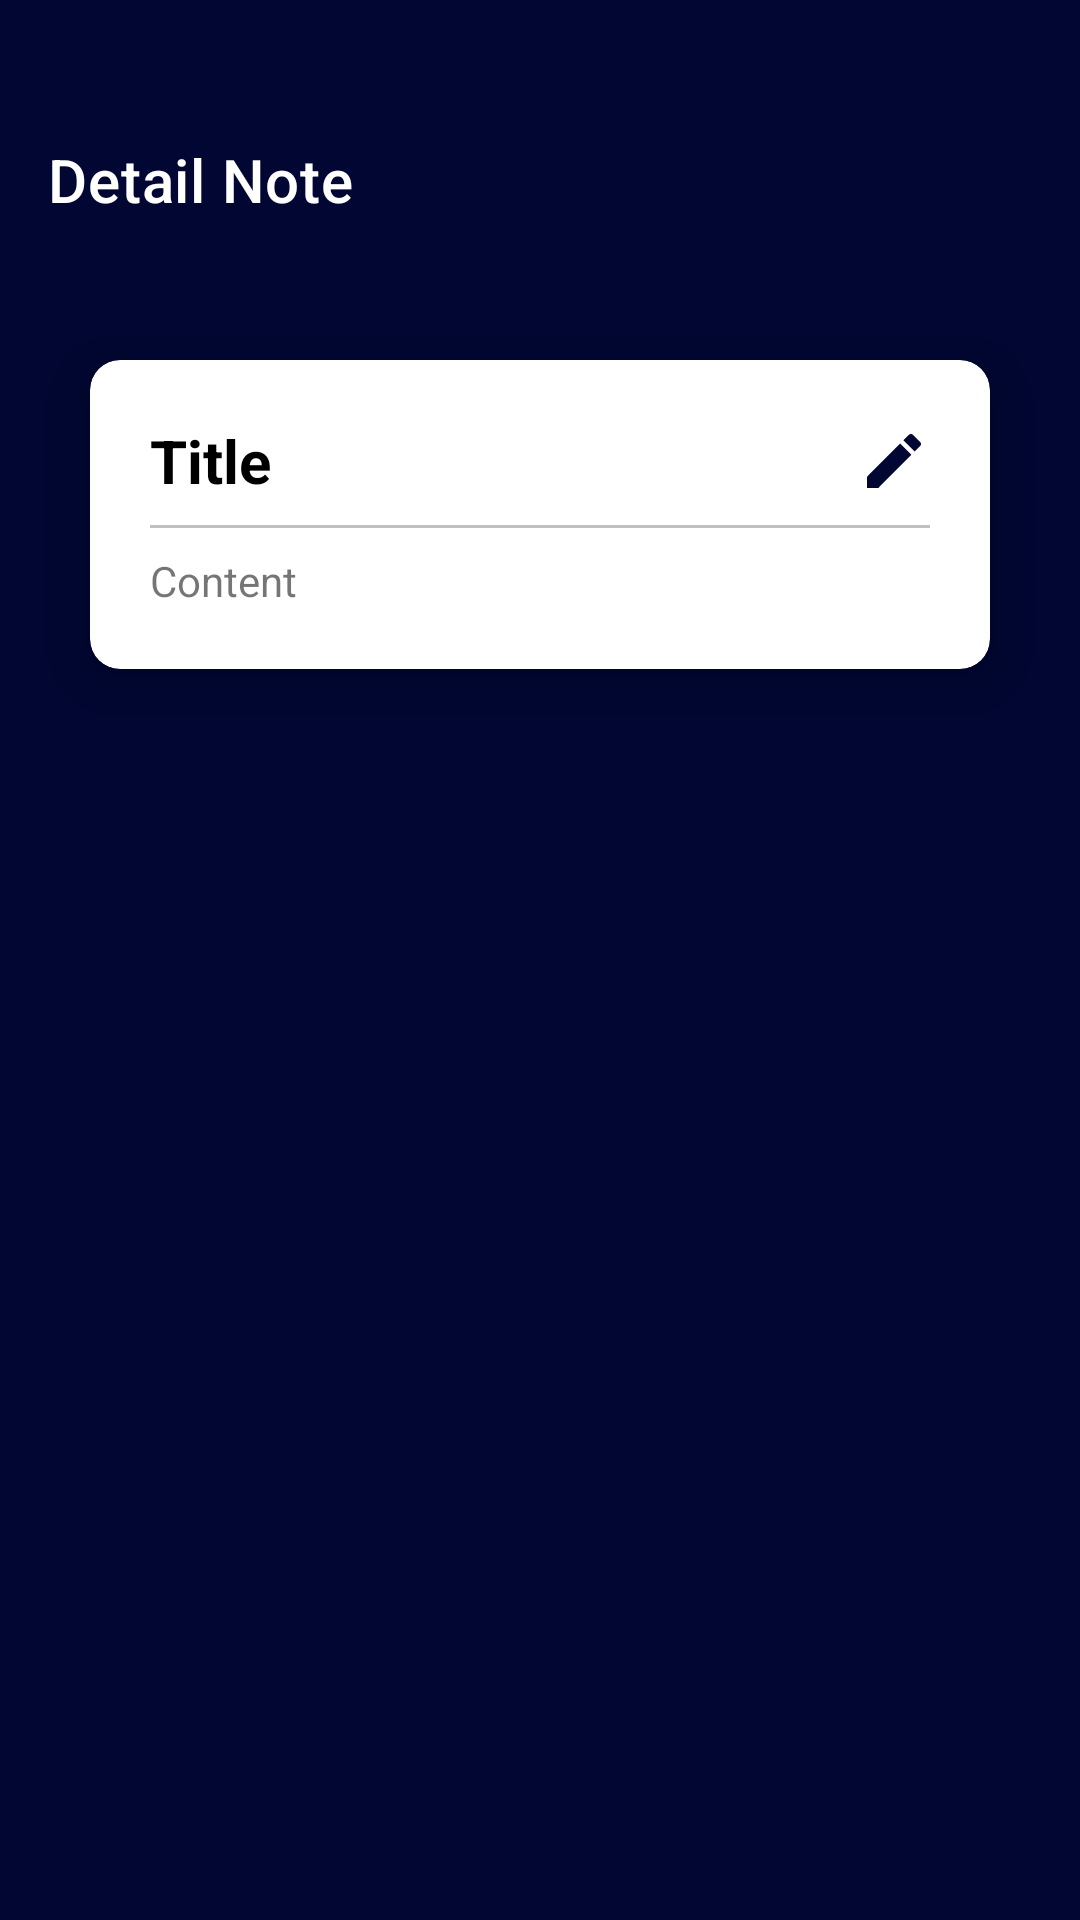

Point at icon controls on the screen. Image size 1080x1920, points as [x,y].
edit: [894,461]
